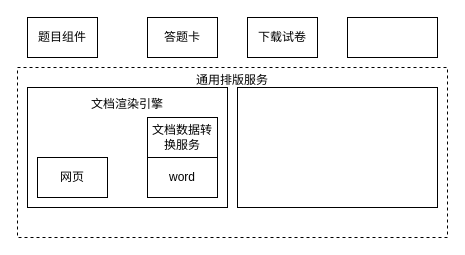
Some shapes in this 465 by 255 pixel diagram are drawn without their labels. The shapes that lost their labels are listed below. From the top down, each one's centre as x and y in pixels, then its label:
At (392,37): "APP错题打印".
At (337,147): "文档数据生成服务".
